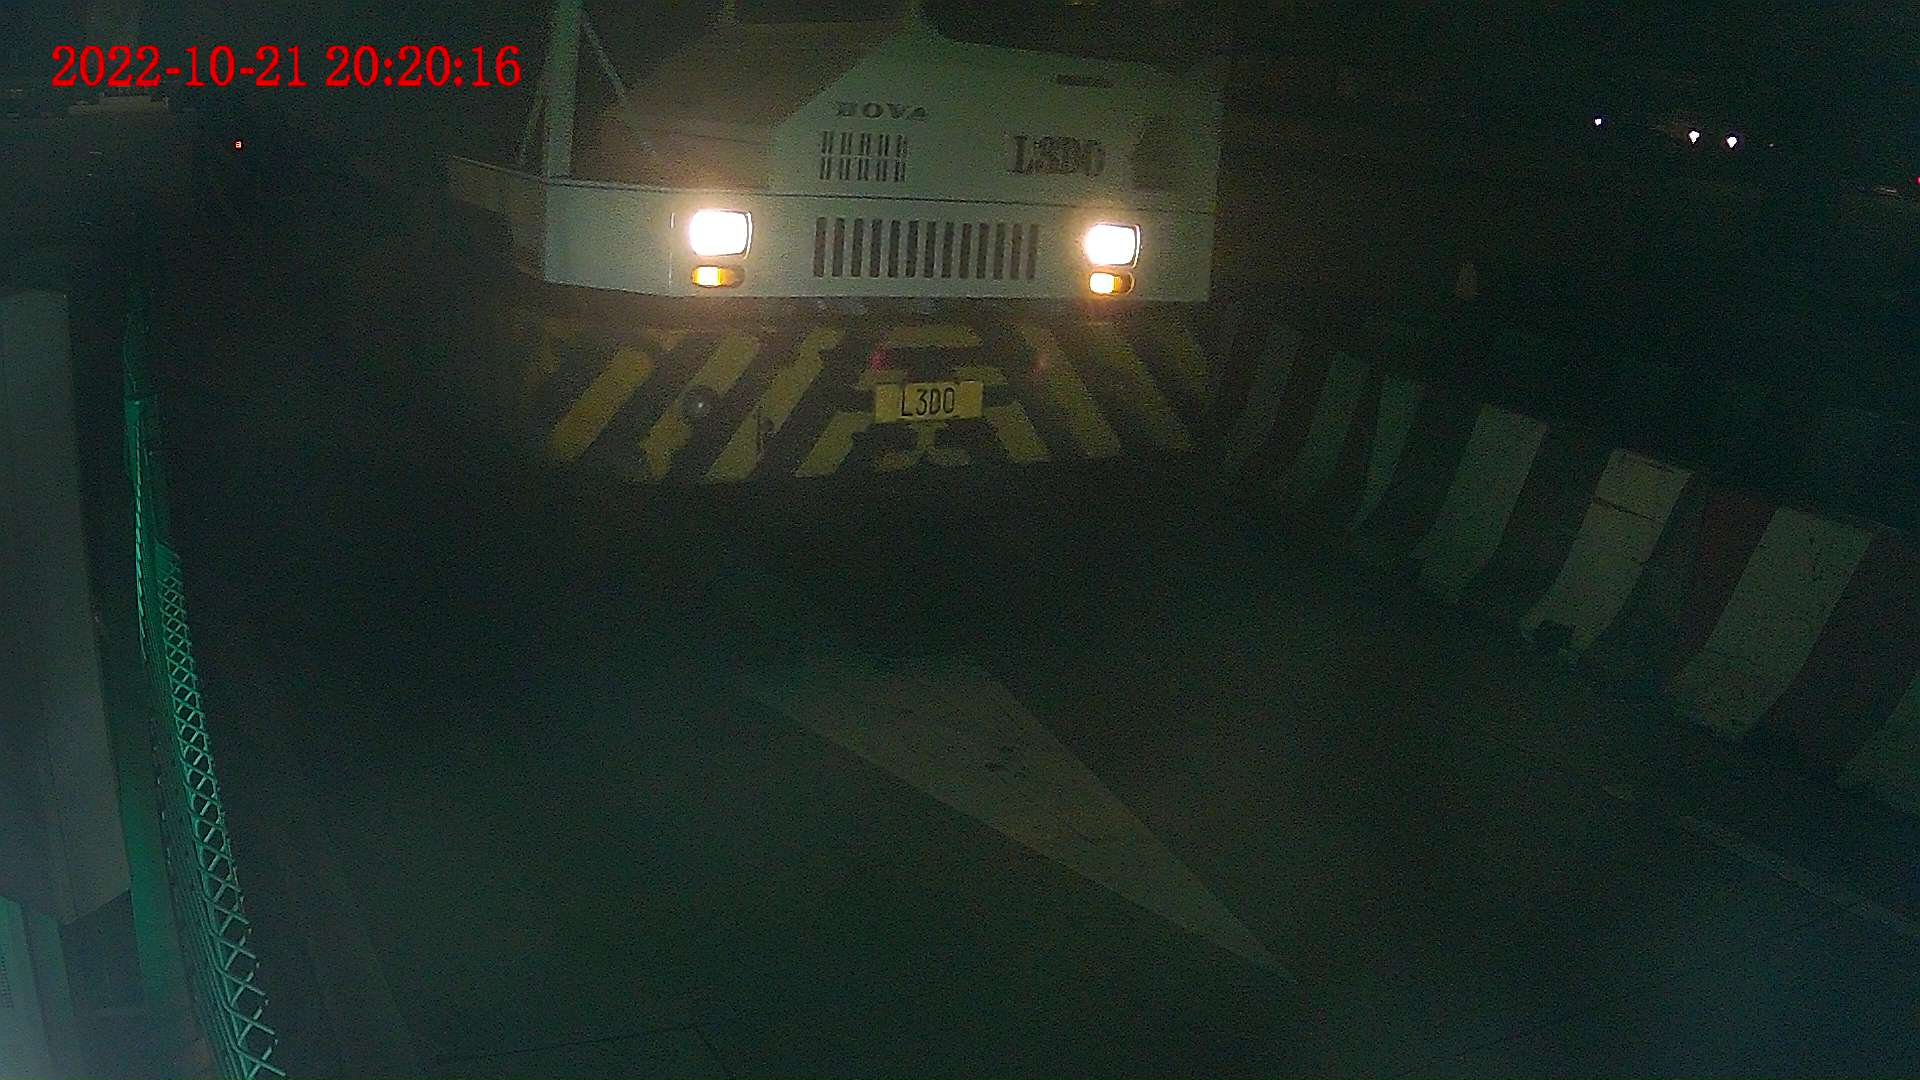head: (359, 1, 1227, 481)
plate: (875, 378, 983, 420)
